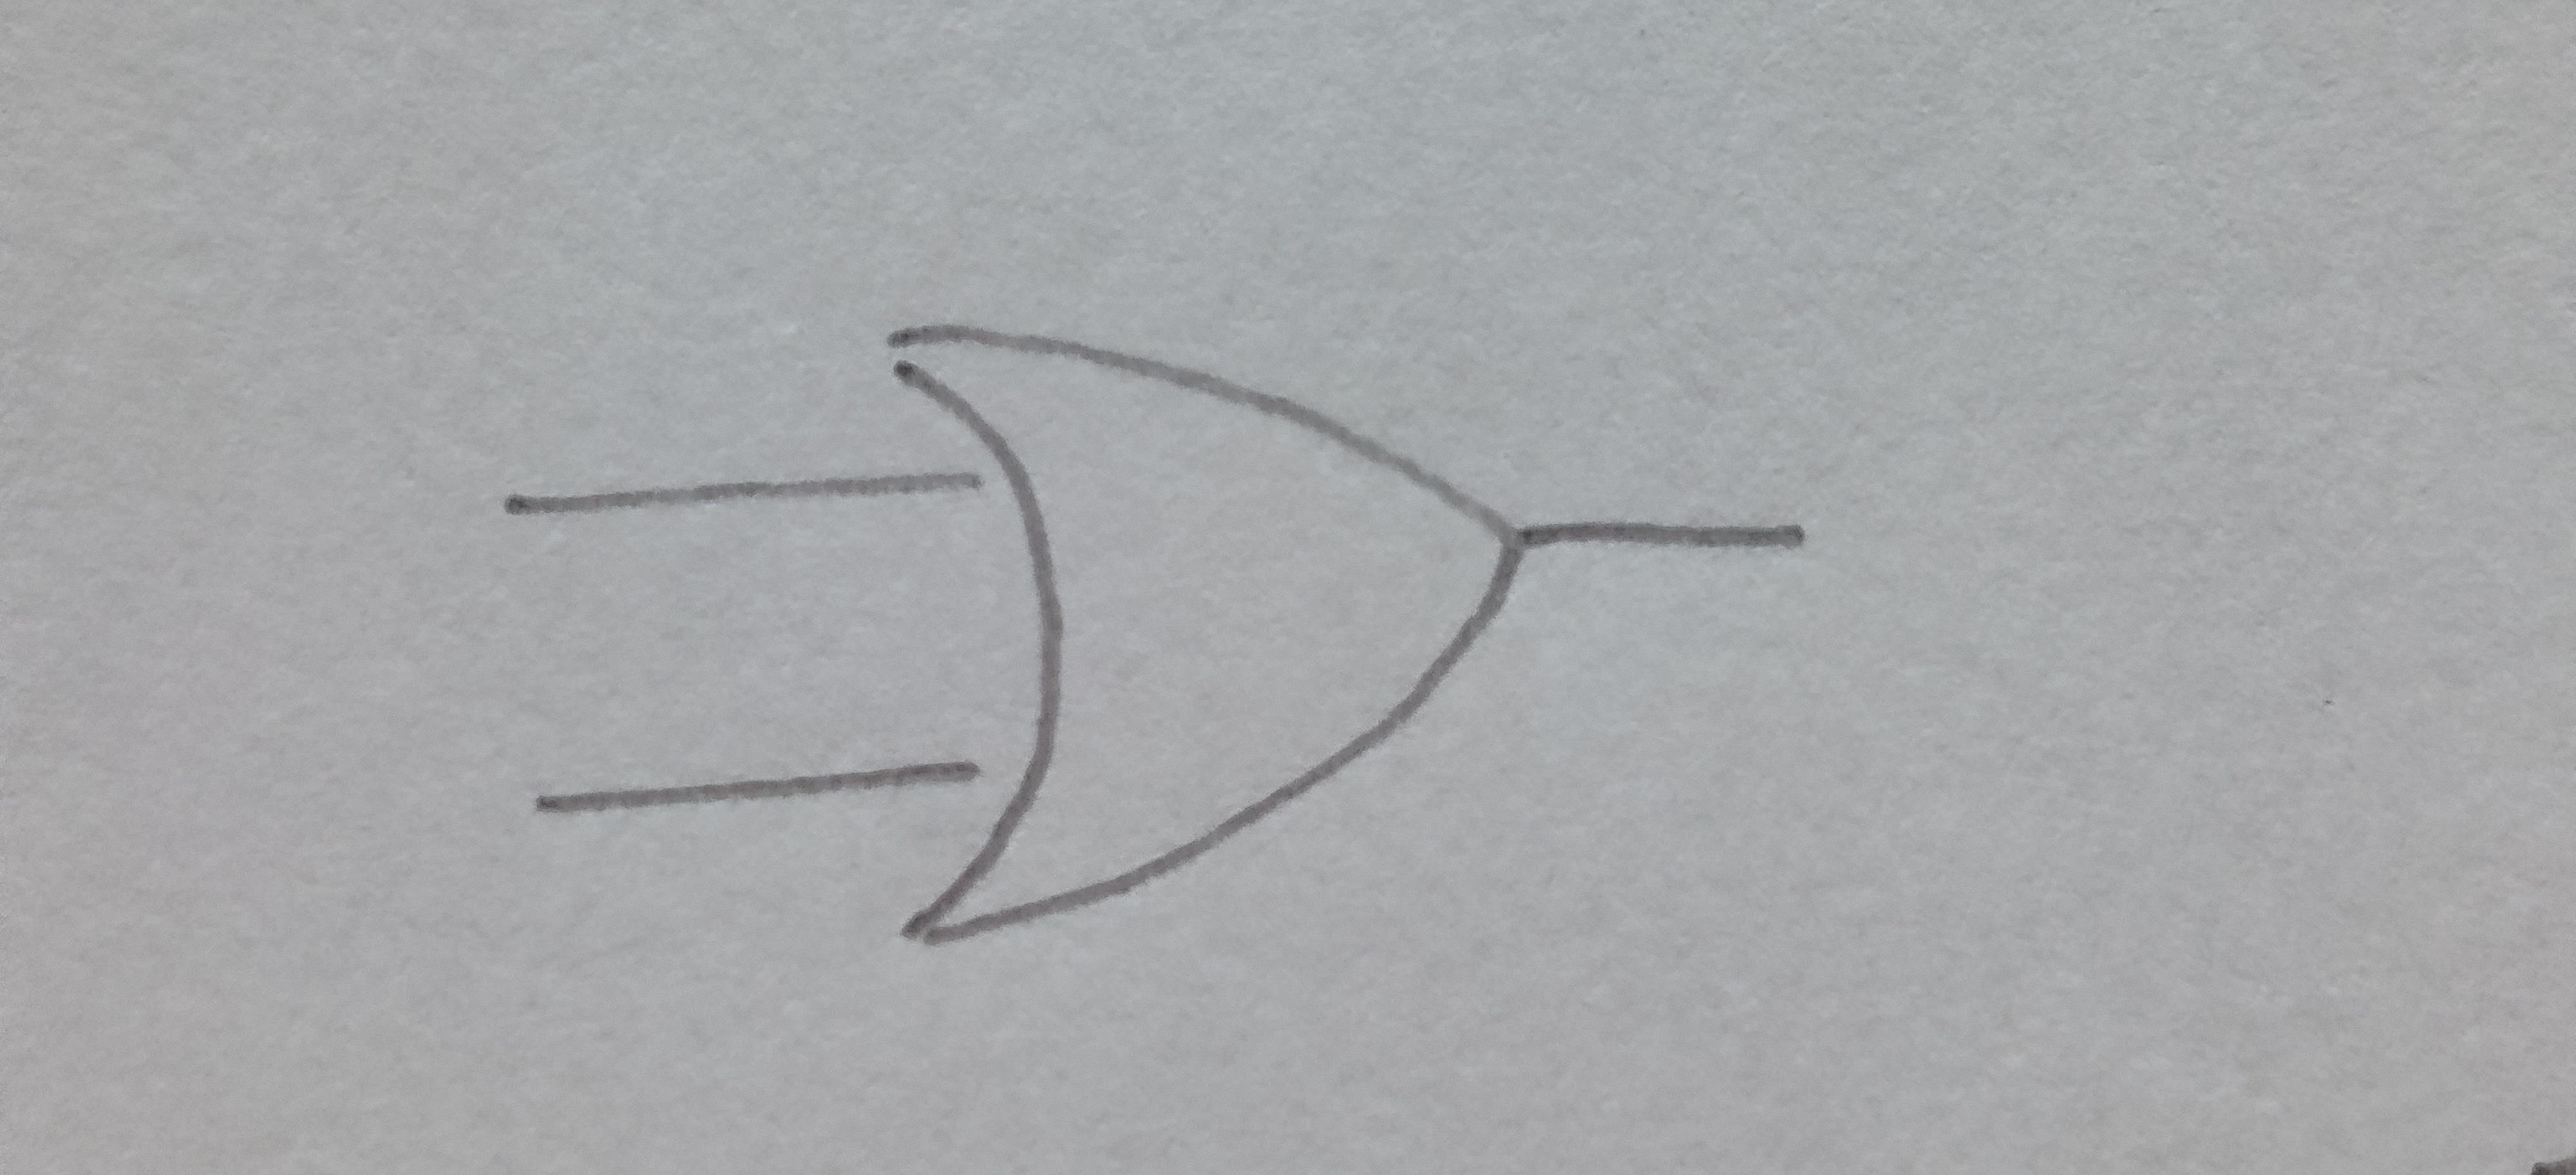or: (900, 325, 1521, 943)
